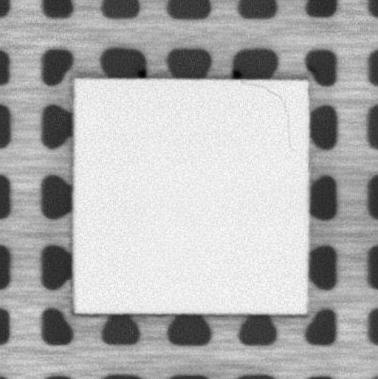DIE_CRACK: (242, 81, 297, 152)
